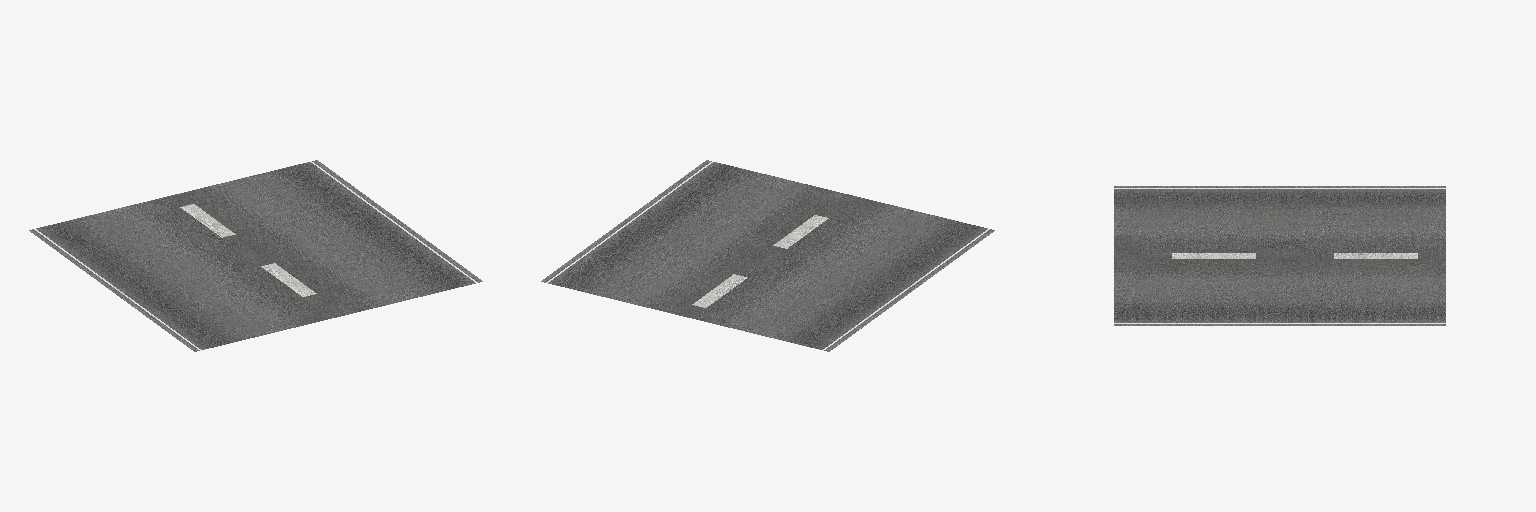
3 renders of one model, left to right at view 1: azimuth 30°, elevation 25°; view 2: azimuth 150°, elevation 25°; view 3: azimuth 270°, elevation 25°, orthographic.
Visible parts, largest first — view 1: pPlane1; view 2: pPlane1; view 3: pPlane1.
Boxes of the visible parts, x1,y1,x2,y2 form: pPlane1: [29, 160, 482, 351]; pPlane1: [541, 160, 994, 351]; pPlane1: [1114, 186, 1445, 325].
Size of the model in its own units: 12.07 by 0 by 12.03.
Materials: 1 (1 with a texture image).